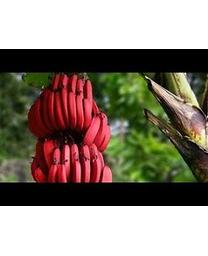banana: (27, 72, 115, 182)
